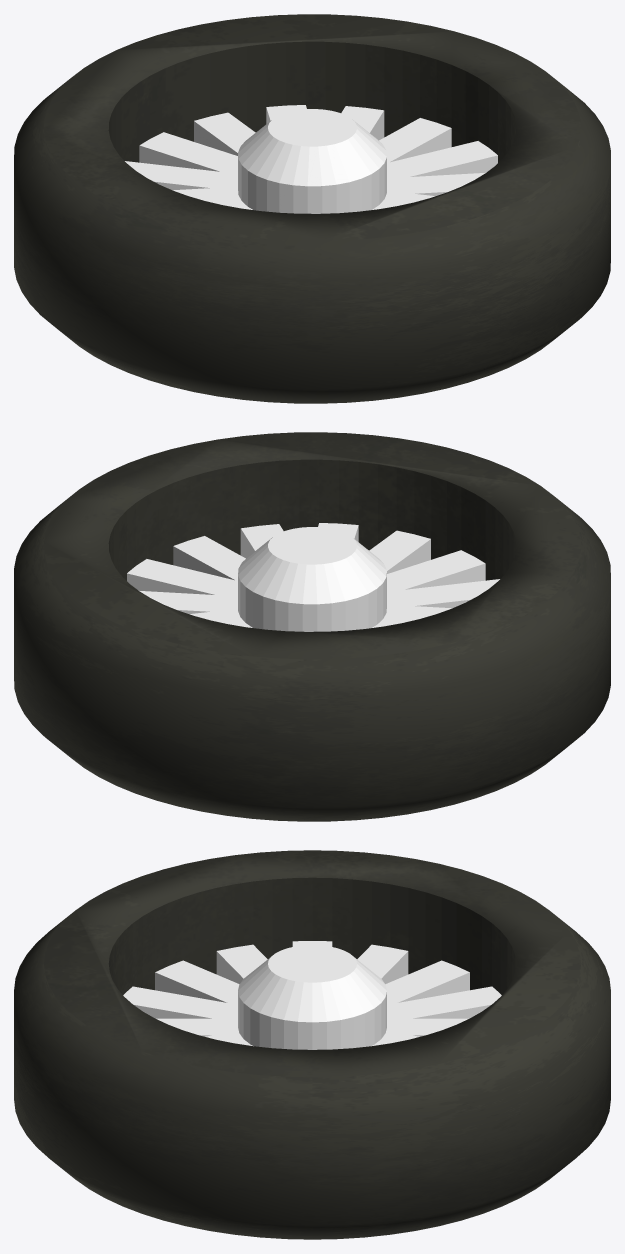
Rendered from wheel1.glb.
3 renders of one model, top to bottom at view 1: azimuth 30°, elevation 25°; view 2: azimuth 150°, elevation 25°; view 3: azimuth 270°, elevation 25°, orthographic.
Visible parts, largest first — view 1: Cylinder, Cube, Cylinder.002; view 2: Cylinder, Cube, Cylinder.002; view 3: Cylinder, Cube, Cylinder.002.
Part boxes in pixels (bbox=[...]): Cylinder: bbox=[14, 14, 610, 403]; Cube: bbox=[125, 105, 497, 209]; Cylinder.002: bbox=[238, 109, 386, 213]; Cylinder: bbox=[14, 432, 610, 821]; Cube: bbox=[127, 523, 499, 627]; Cylinder.002: bbox=[238, 527, 386, 631]; Cylinder: bbox=[14, 850, 610, 1239]; Cube: bbox=[123, 941, 501, 1046]; Cylinder.002: bbox=[238, 945, 386, 1049].
Bounding box in the file's own units: 2 × 0.6 × 2.
3 materials, 1 textured.
